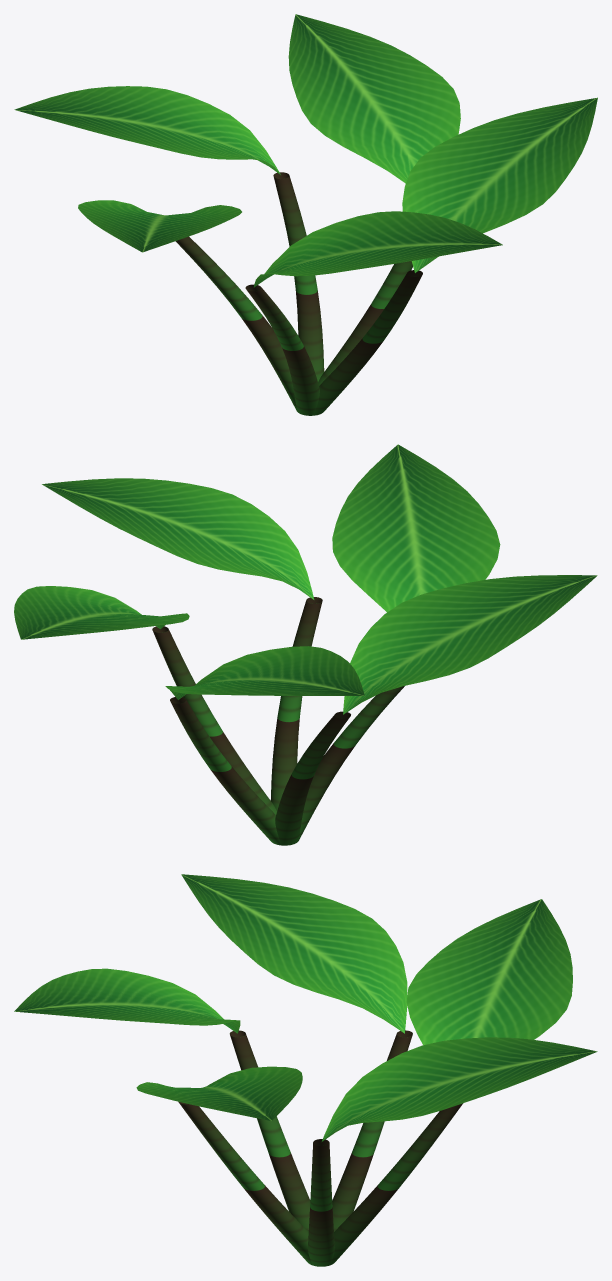
Rendered from Monstera.glb.
3 views of the same model, one above another, from view 1: azimuth 30°, elevation 25°; view 2: azimuth 150°, elevation 25°; view 3: azimuth 270°, elevation 25° (orthographic). The views are drawn at different scales.
Parts seen in each view (by area): view 1: Planta_05_Monstera_Estilizada; view 2: Planta_05_Monstera_Estilizada; view 3: Planta_05_Monstera_Estilizada.
Part boxes in pixels (x1,y1,x2,y2): Planta_05_Monstera_Estilizada: (14, 14, 597, 415); Planta_05_Monstera_Estilizada: (14, 444, 597, 845); Planta_05_Monstera_Estilizada: (14, 874, 597, 1266).
Size of the model in its own units: 2.68 by 1.36 by 2.67.
Materials: 2 (2 with a texture image).
